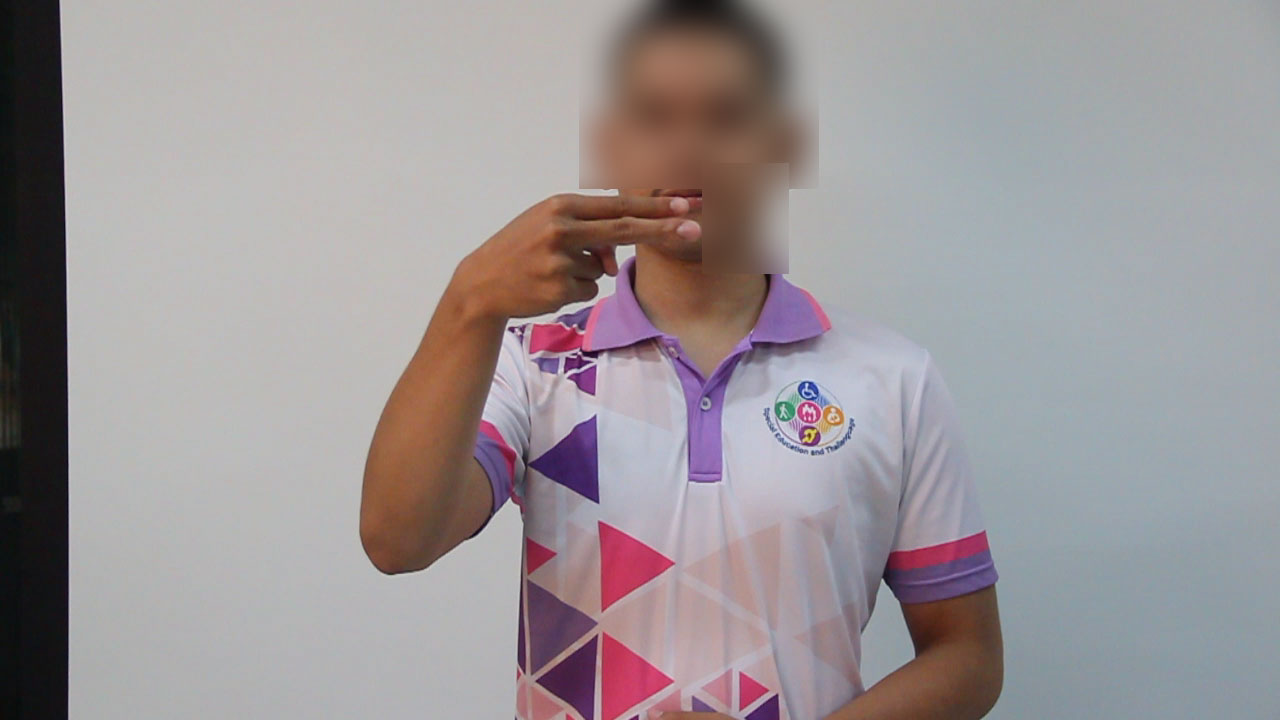hor: (436, 178, 715, 336)
